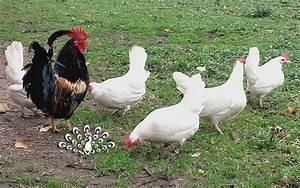hen: (23, 28, 94, 133), (123, 70, 207, 154), (87, 44, 150, 117), (240, 42, 295, 107)
